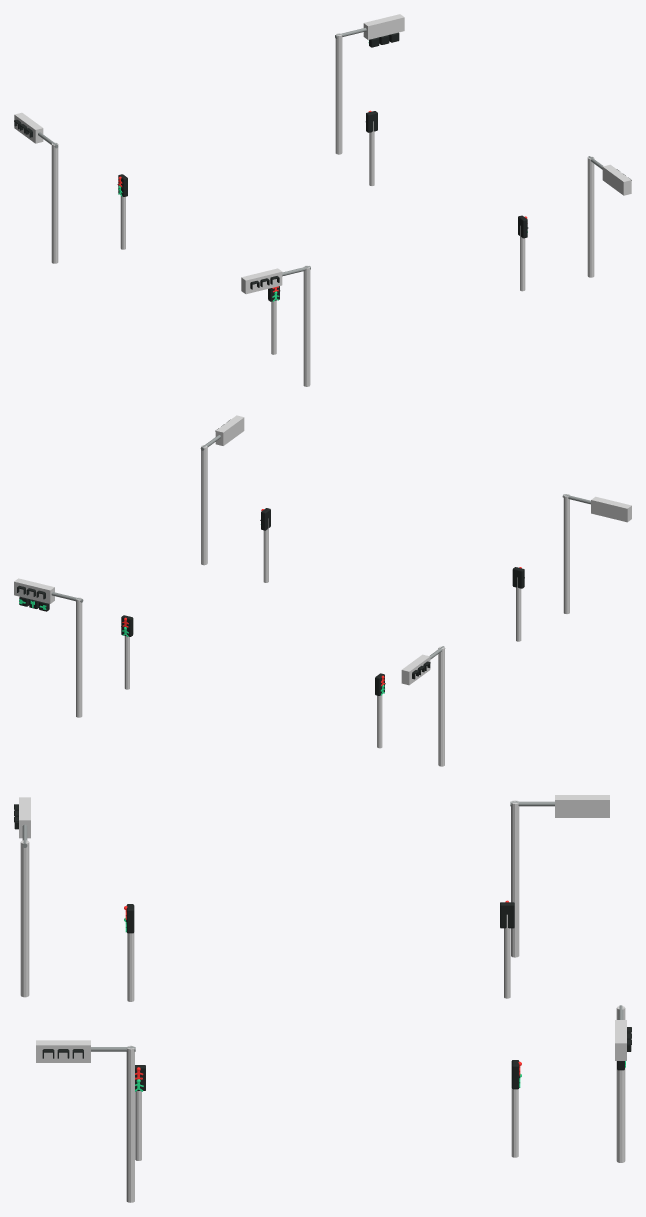
The model's file is japanese_traffic_signals.fbx.
3 renders of one model, top to bottom at view 1: azimuth 30°, elevation 25°; view 2: azimuth 150°, elevation 25°; view 3: azimuth 270°, elevation 25°, orthographic. The views are drawn at different scales.
Parts seen in each view (by area): view 1: COL_SIG_VEHICLE_NORTH_POLE, COL_SIG_VEHICLE_WEST_POLE, COL_SIG_VEHICLE_SOUTH_POLE, COL_SIG_VEHICLE_EAST_POLE, COL_SIG_VEHICLE_NORTH_HEAD, COL_SIG_VEHICLE_SOUTH_HEAD, COL_SIG_VEHICLE_EAST_HEAD; view 2: COL_SIG_VEHICLE_NORTH_POLE, COL_SIG_VEHICLE_SOUTH_POLE, COL_SIG_VEHICLE_EAST_POLE, COL_SIG_VEHICLE_WEST_POLE, COL_SIG_VEHICLE_SOUTH_HEAD, COL_SIG_VEHICLE_NORTH_HEAD, COL_SIG_VEHICLE_EAST_HEAD; view 3: COL_SIG_VEHICLE_SOUTH_POLE, COL_SIG_VEHICLE_EAST_POLE, COL_SIG_VEHICLE_WEST_POLE, COL_SIG_VEHICLE_WEST_HEAD, COL_SIG_VEHICLE_EAST_HEAD, COL_SIG_VEHICLE_NORTH_POLE.
Part boxes in pixels (bbox=[...]): COL_SIG_VEHICLE_NORTH_POLE: bbox=[335, 33, 342, 154]; COL_SIG_VEHICLE_WEST_POLE: bbox=[51, 142, 58, 263]; COL_SIG_VEHICLE_SOUTH_POLE: bbox=[303, 265, 310, 386]; COL_SIG_VEHICLE_EAST_POLE: bbox=[587, 156, 594, 277]; COL_SIG_VEHICLE_NORTH_HEAD: bbox=[363, 14, 404, 39]; COL_SIG_VEHICLE_SOUTH_HEAD: bbox=[241, 268, 282, 294]; COL_SIG_VEHICLE_EAST_HEAD: bbox=[602, 164, 631, 195]; COL_SIG_VEHICLE_NORTH_POLE: bbox=[76, 597, 82, 717]; COL_SIG_VEHICLE_SOUTH_POLE: bbox=[563, 494, 569, 613]; COL_SIG_VEHICLE_EAST_POLE: bbox=[201, 445, 207, 565]; COL_SIG_VEHICLE_WEST_POLE: bbox=[438, 646, 444, 766]; COL_SIG_VEHICLE_SOUTH_HEAD: bbox=[591, 496, 631, 522]; COL_SIG_VEHICLE_NORTH_HEAD: bbox=[14, 578, 54, 603]; COL_SIG_VEHICLE_EAST_HEAD: bbox=[215, 415, 244, 445]; COL_SIG_VEHICLE_SOUTH_POLE: bbox=[20, 840, 29, 997]; COL_SIG_VEHICLE_EAST_POLE: bbox=[126, 1045, 134, 1202]; COL_SIG_VEHICLE_WEST_POLE: bbox=[511, 800, 519, 957]; COL_SIG_VEHICLE_WEST_HEAD: bbox=[555, 795, 609, 817]; COL_SIG_VEHICLE_EAST_HEAD: bbox=[36, 1040, 90, 1062]; COL_SIG_VEHICLE_NORTH_POLE: bbox=[616, 1006, 625, 1162].
Size of the model in its own units: 15.36 by 4.45 by 15.76.
